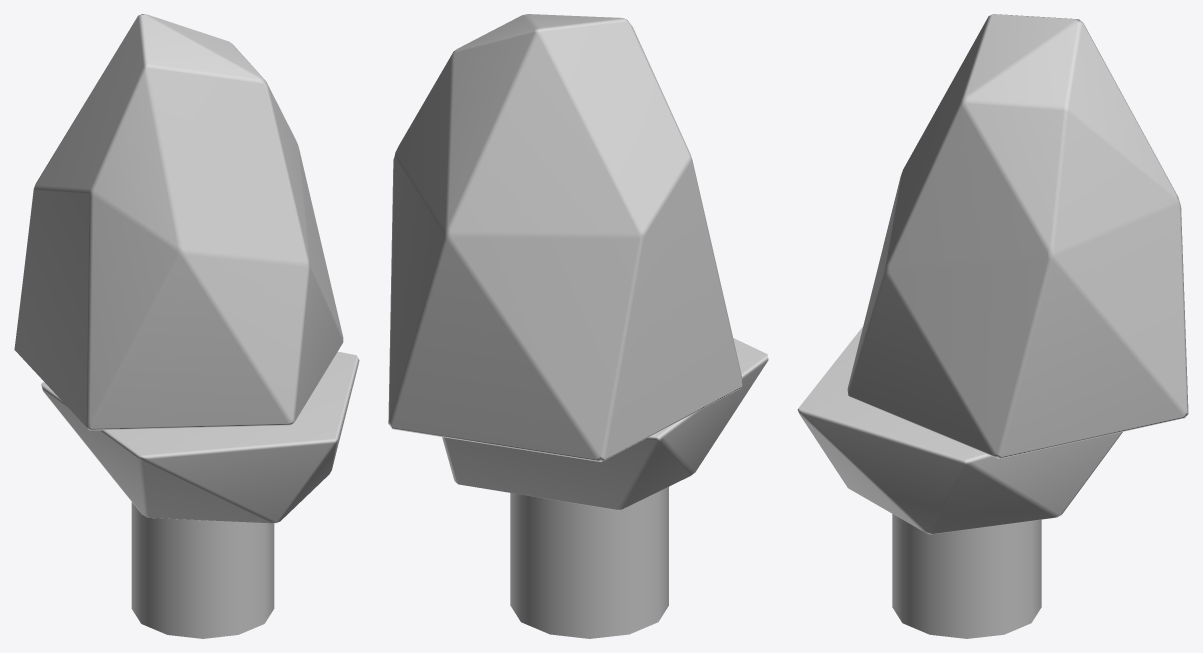
The model's file is mod_sc_roma_001_sculpture_017.fbx.
3 renders of one model, left to right at view 1: azimuth 30°, elevation 25°; view 2: azimuth 150°, elevation 25°; view 3: azimuth 270°, elevation 25°, orthographic. The views are drawn at different scales.
Parts seen in each view (by area): view 1: mod_sc_roma_001_sculpture_017; view 2: mod_sc_roma_001_sculpture_017; view 3: mod_sc_roma_001_sculpture_017.
Boxes of the visible parts, <box> form: mod_sc_roma_001_sculpture_017: <box>14,14,359,638</box>; mod_sc_roma_001_sculpture_017: <box>388,14,768,638</box>; mod_sc_roma_001_sculpture_017: <box>797,14,1188,638</box>.
Size of what is drawn, in the model's own units: 313 by 593 by 360.
Materials: 1 (1 with a texture image).
